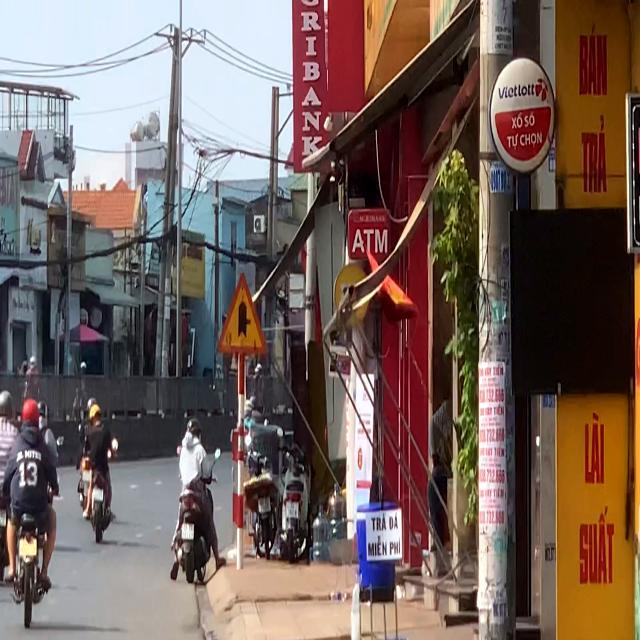W-207b: (218, 276, 266, 351)
